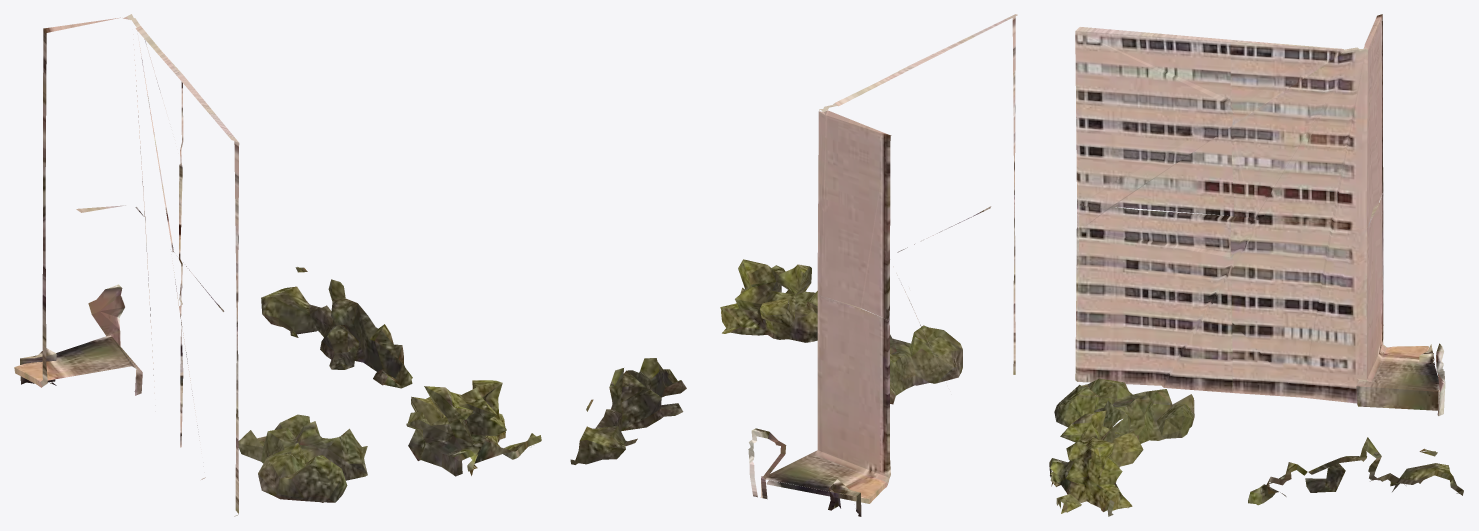
3 views of the same model, side by side, from view 1: azimuth 30°, elevation 25°; view 2: azimuth 150°, elevation 25°; view 3: azimuth 270°, elevation 25° (orthographic). The views are drawn at different scales.
Visible parts, largest first — view 1: Mesh_0; view 2: Mesh_0; view 3: Mesh_0.
Boxes of the visible parts, x1,y1,x2,y2 form: Mesh_0: (14,14,541,516); Mesh_0: (570,14,1017,516); Mesh_0: (1049,14,1463,516).
Size of the model in its own units: 33.75 by 37.24 by 39.05.
1 material, 1 textured.
